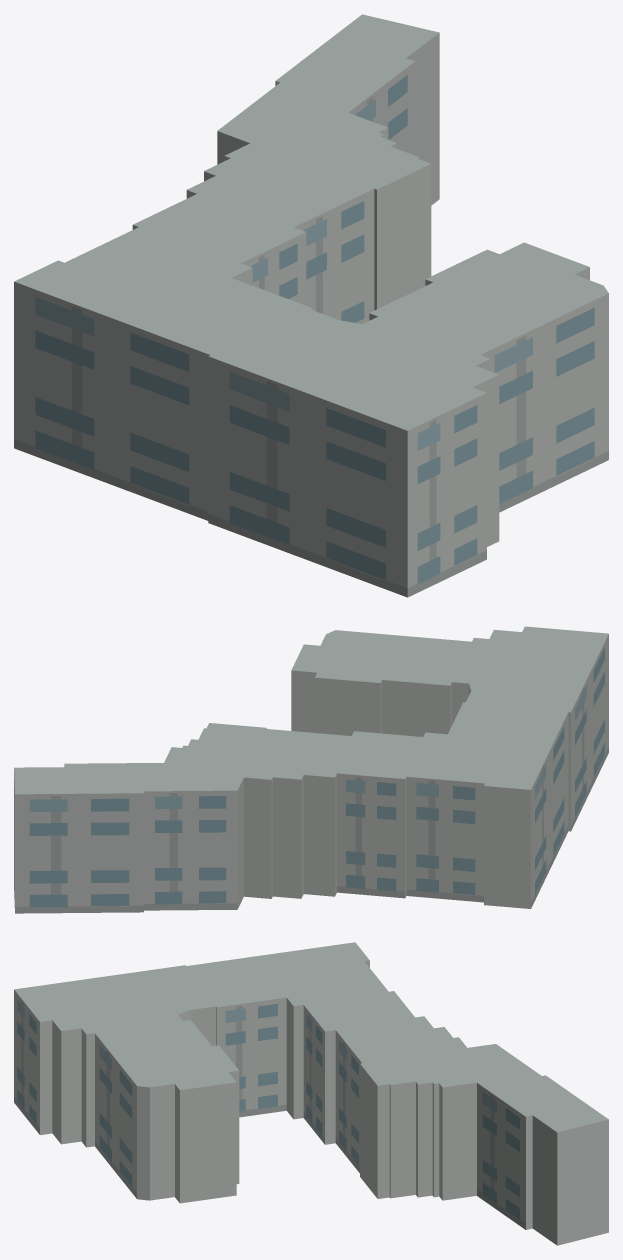
The model's file is survey-upis-32623653.glb.
The picture shows the model from 3 angles, top to bottom: view 1: azimuth 30°, elevation 25°; view 2: azimuth 150°, elevation 25°; view 3: azimuth 270°, elevation 25°; orthographic projection. The views are drawn at different scales.
Parts seen in each view (by area): view 1: survey-upis-32623653.tmp; view 2: survey-upis-32623653.tmp; view 3: survey-upis-32623653.tmp.
Boxes of the visible parts, box(x1,y1,x2,y2) form: survey-upis-32623653.tmp: box(14, 14, 608, 597); survey-upis-32623653.tmp: box(14, 626, 608, 913); survey-upis-32623653.tmp: box(14, 942, 608, 1245).
Bounding box in the file's own units: 54.98 × 15.25 × 72.64.
